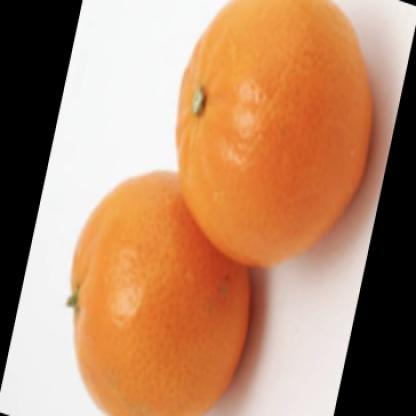fresh: (64, 1, 375, 416)
